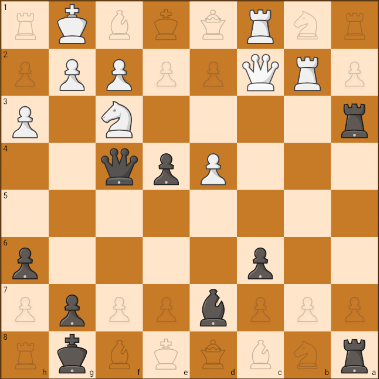bb: (193, 287, 234, 330)
bk: (51, 333, 94, 377)
bp: (5, 239, 44, 281), (52, 288, 91, 328), (245, 239, 277, 281), (151, 151, 184, 188)
bq: (97, 144, 140, 188)
br: (336, 332, 374, 376), (336, 101, 375, 141)
wk: (52, 3, 93, 48)
wn: (99, 100, 139, 139)
wp: (192, 149, 232, 187), (55, 55, 91, 95), (5, 104, 43, 139), (104, 53, 134, 92)
wq: (239, 52, 282, 95)
wr: (241, 8, 280, 45), (292, 54, 324, 94)
